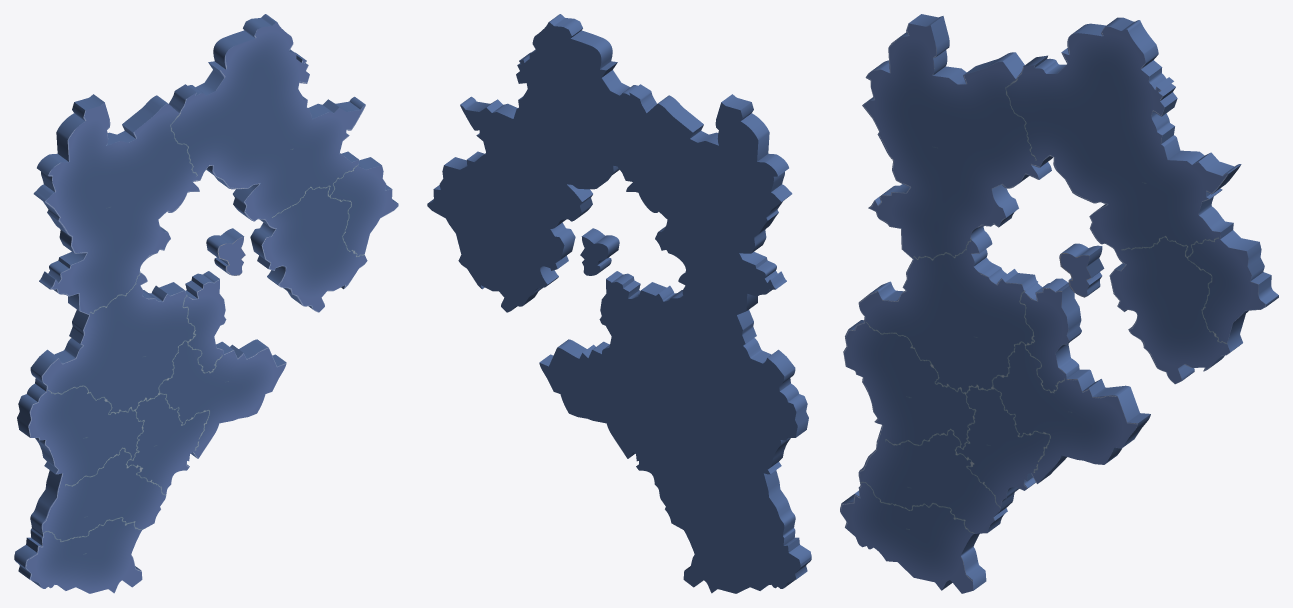
The model's file is 河北地图.fbx.
3 views of the same model, side by side, from view 1: azimuth 30°, elevation 25°; view 2: azimuth 150°, elevation 25°; view 3: azimuth 330°, elevation 25° (orthographic). The views are drawn at different scales.
Visible parts, largest first — view 1: 立方体, 挤压; view 2: 封顶_2, 挤压; view 3: 立方体, 挤压.
Boxes of the visible parts, left/top/right/bottom form: 立方体: left=14, top=22, right=398, bottom=593; 挤压: left=14, top=14, right=397, bottom=590; 封顶_2: left=427, top=22, right=800, bottom=593; 挤压: left=428, top=14, right=811, bottom=590; 立方体: left=840, top=23, right=1265, bottom=593; 挤压: left=842, top=14, right=1278, bottom=590.
Size of the model in its own units: 1687 by 2297 by 87.97.
2 materials, 1 textured.
